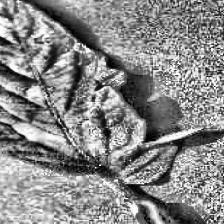leaf mold: (0, 0, 199, 182)
